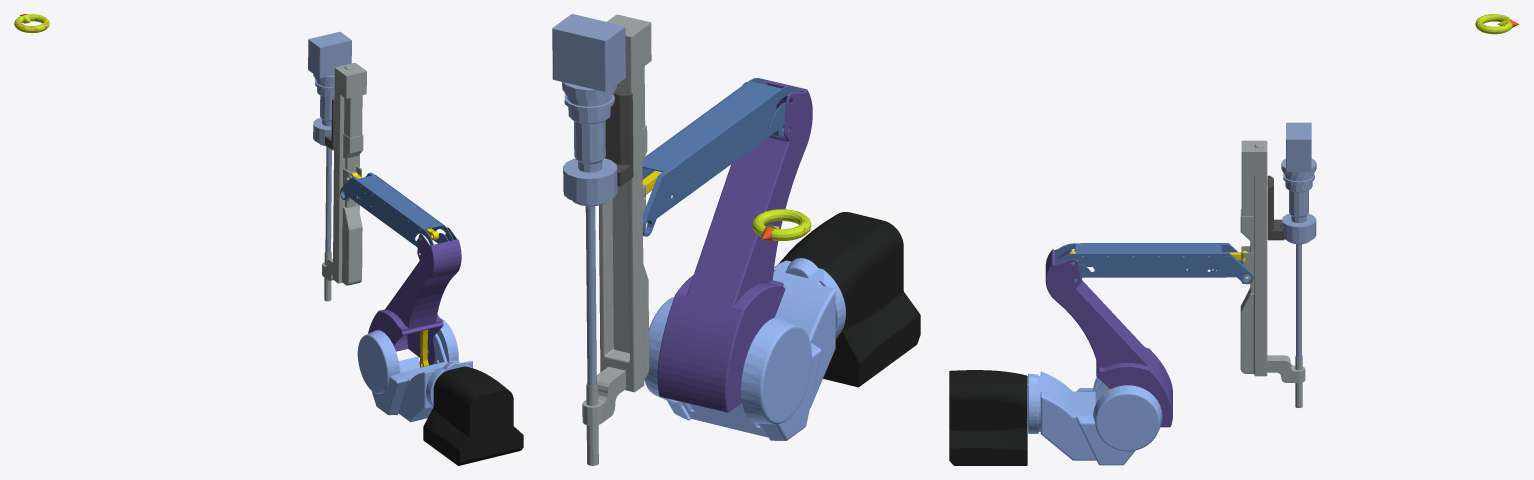
File: ECM.fbx
3 renders of one model, left to right at view 1: azimuth 30°, elevation 25°; view 2: azimuth 150°, elevation 25°; view 3: azimuth 270°, elevation 25°, orthographic. The views are drawn at different scales.
Visible parts, largest first — view 1: /ambf/env/ecm/base link, /ambf/env/ecm/pitch end link, /ambf/env/ecm/yaw link, /ambf/env/ecm/pitch front link, /ambf/env/ecm/pitch bottom link, /ambf/env/ecm/tool link; view 2: /ambf/env/ecm/pitch front link, /ambf/env/ecm/yaw link, /ambf/env/ecm/pitch end link, /ambf/env/ecm/base link, /ambf/env/ecm/tool link, /ambf/env/ecm/pitch bottom link, /ambf/env/ecm/main insertion link, /ambf/env/ecm/target_fk; view 3: /ambf/env/ecm/yaw link, /ambf/env/ecm/base link, /ambf/env/ecm/pitch front link, /ambf/env/ecm/pitch end link, /ambf/env/ecm/pitch bottom link, /ambf/env/ecm/tool link, /ambf/env/ecm/main insertion link, /ambf/env/ecm/target_fk.
Boxes of the visible parts, x1,y1,x2,y2 form: /ambf/env/ecm/base link: [423, 366, 523, 465]; /ambf/env/ecm/pitch end link: [322, 62, 366, 301]; /ambf/env/ecm/yaw link: [357, 318, 472, 422]; /ambf/env/ecm/pitch front link: [368, 227, 461, 364]; /ambf/env/ecm/pitch bottom link: [340, 172, 453, 247]; /ambf/env/ecm/tool link: [308, 31, 351, 253]; /ambf/env/ecm/pitch front link: [657, 78, 812, 412]; /ambf/env/ecm/yaw link: [644, 258, 845, 440]; /ambf/env/ecm/pitch end link: [582, 14, 651, 465]; /ambf/env/ecm/base link: [779, 212, 920, 387]; /ambf/env/ecm/tool link: [552, 14, 625, 386]; /ambf/env/ecm/pitch bottom link: [642, 78, 799, 236]; /ambf/env/ecm/main insertion link: [605, 89, 633, 186]; /ambf/env/ecm/target_fk: [752, 209, 811, 240]; /ambf/env/ecm/yaw link: [1028, 371, 1162, 465]; /ambf/env/ecm/base link: [949, 370, 1027, 465]; /ambf/env/ecm/pitch front link: [1045, 249, 1172, 427]; /ambf/env/ecm/pitch end link: [1240, 140, 1305, 407]; /ambf/env/ecm/pitch bottom link: [1055, 243, 1253, 284]; /ambf/env/ecm/tool link: [1281, 122, 1316, 357]; /ambf/env/ecm/main insertion link: [1267, 175, 1284, 240]; /ambf/env/ecm/target_fk: [1475, 14, 1512, 34].
Bounding box in the file's own units: 62.55 × 71.01 × 113.
